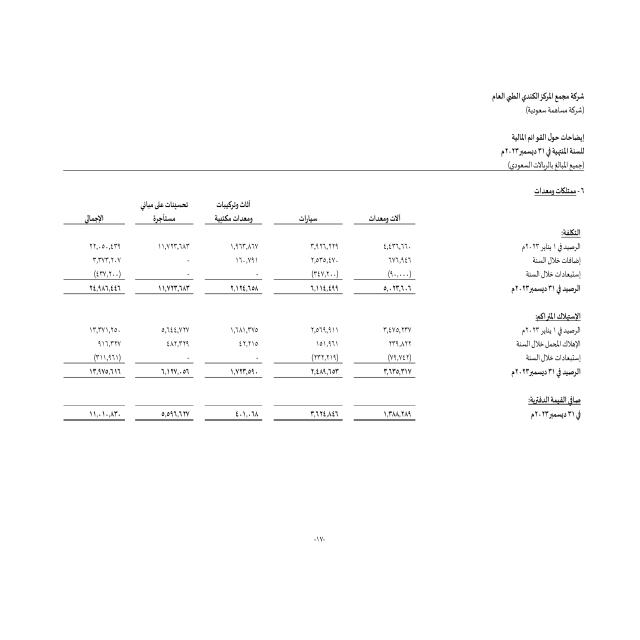notes: (502, 130, 588, 145)
table: (45, 193, 432, 447)
